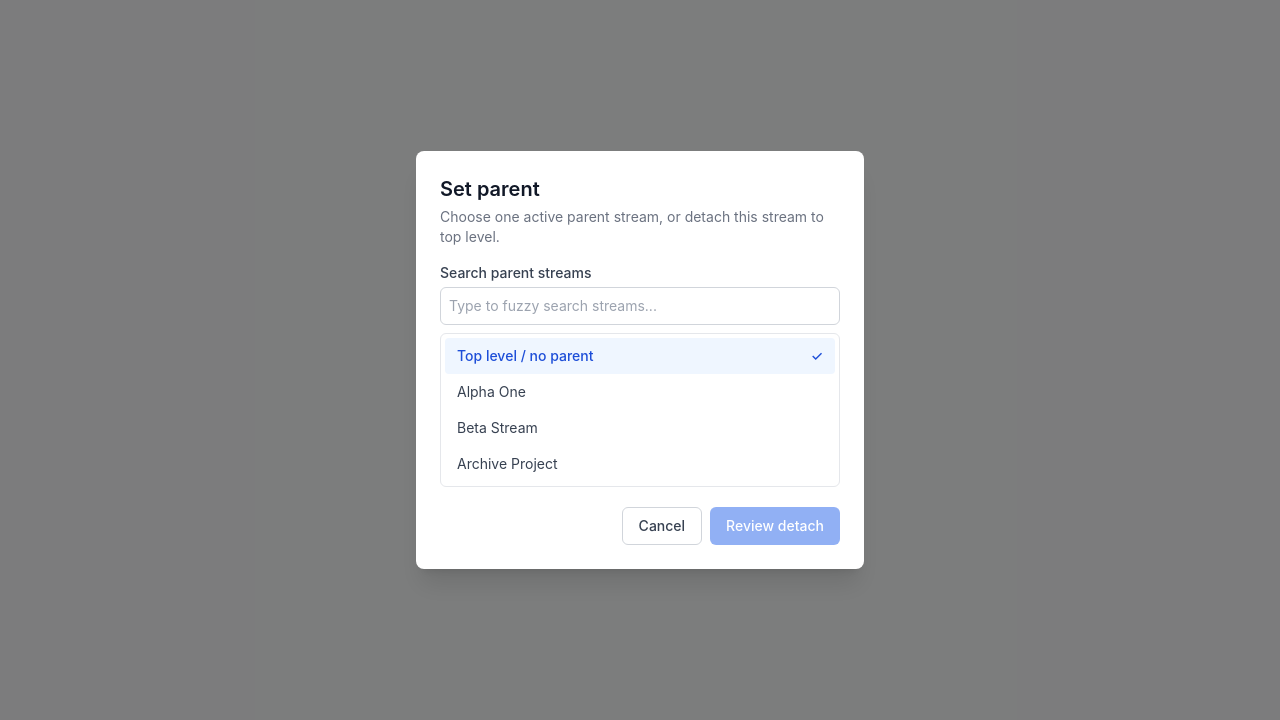
Test: frontend parent stream review blockers › uses a searchable fuzzy parent picker instead of a plain long dropdown
The width and height of the screenshot is (1280, 720).
In the field labelled "Search parent streams": (640, 306) top-left (440, 287), bottom-right (840, 325), type "al on"
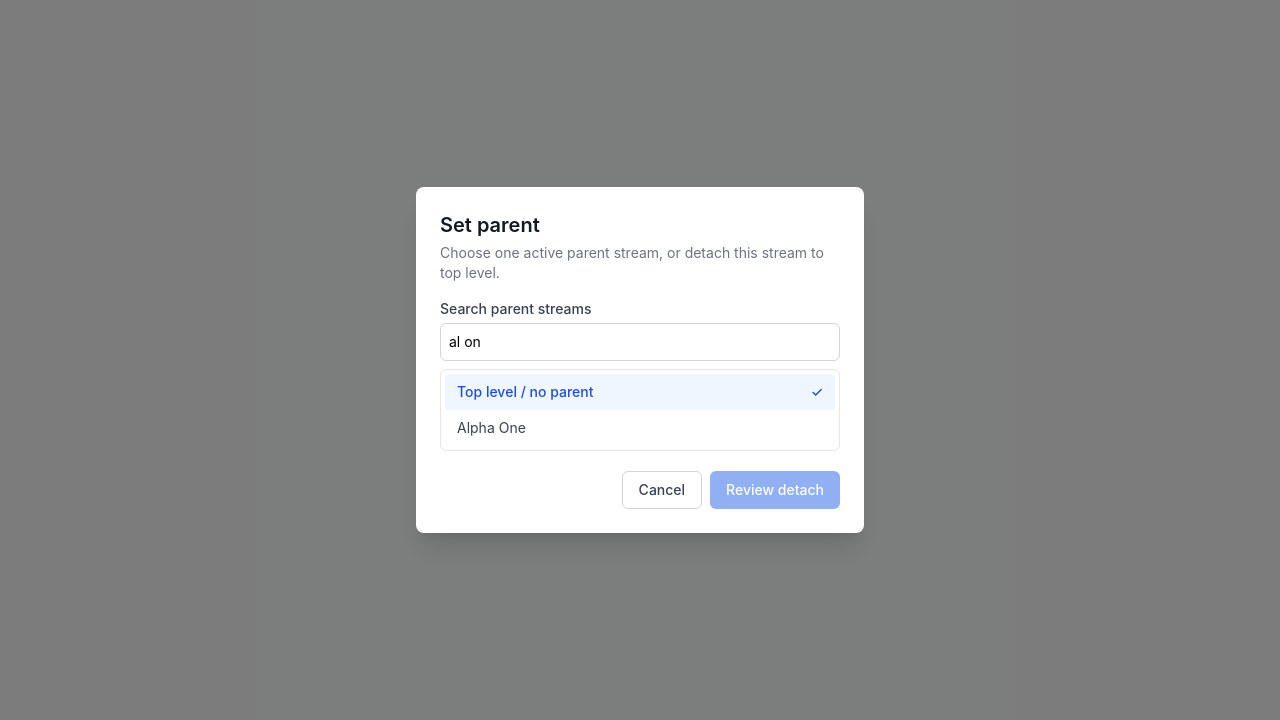
Expected: the button "Alpha One" is shown, top-left (445, 410), bottom-right (835, 446)
Result: the button "Beta Stream" is gone
